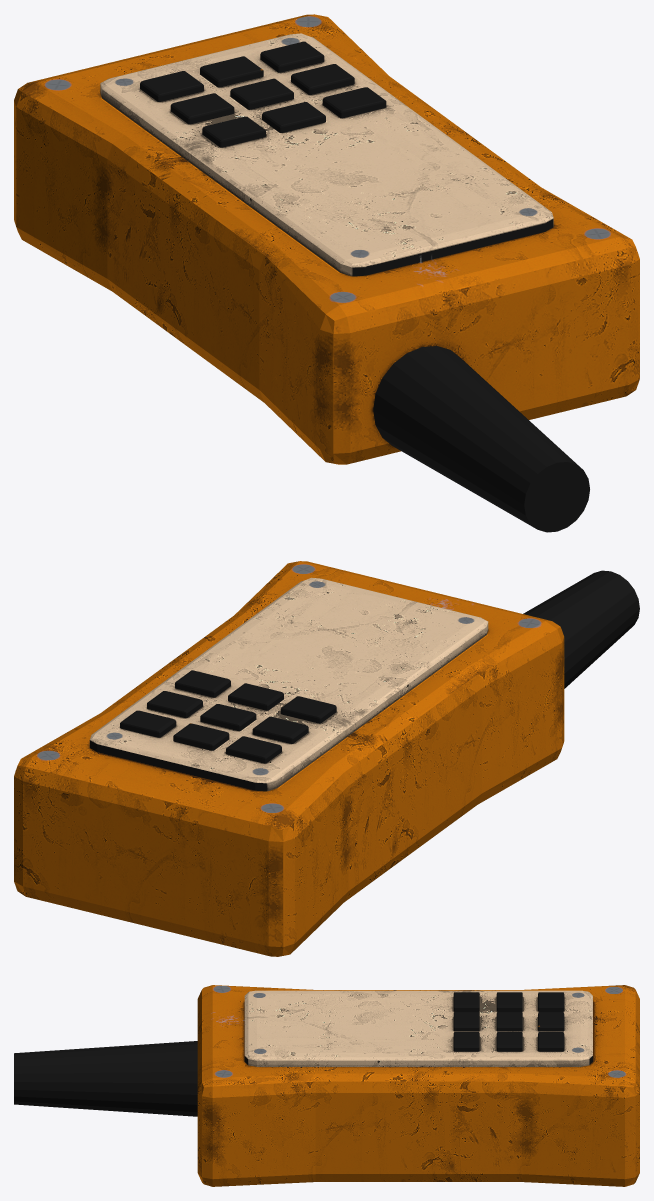
File: GLB_WalkieTalkie2.glb
3 views of the same model, one above another, from view 1: azimuth 30°, elevation 25°; view 2: azimuth 150°, elevation 25°; view 3: azimuth 270°, elevation 25° (orthographic). The views are drawn at different scales.
Visible parts, largest first — view 1: Walkie_Talkie1; view 2: Walkie_Talkie1; view 3: Walkie_Talkie1.
Part boxes in pixels (x1,y1,x2,y2): Walkie_Talkie1: (14, 14, 639, 532); Walkie_Talkie1: (14, 561, 639, 956); Walkie_Talkie1: (14, 985, 639, 1186).
Size of the model in its own units: 0.0287 by 0.0155 by 0.0721.
1 material, 1 textured.
